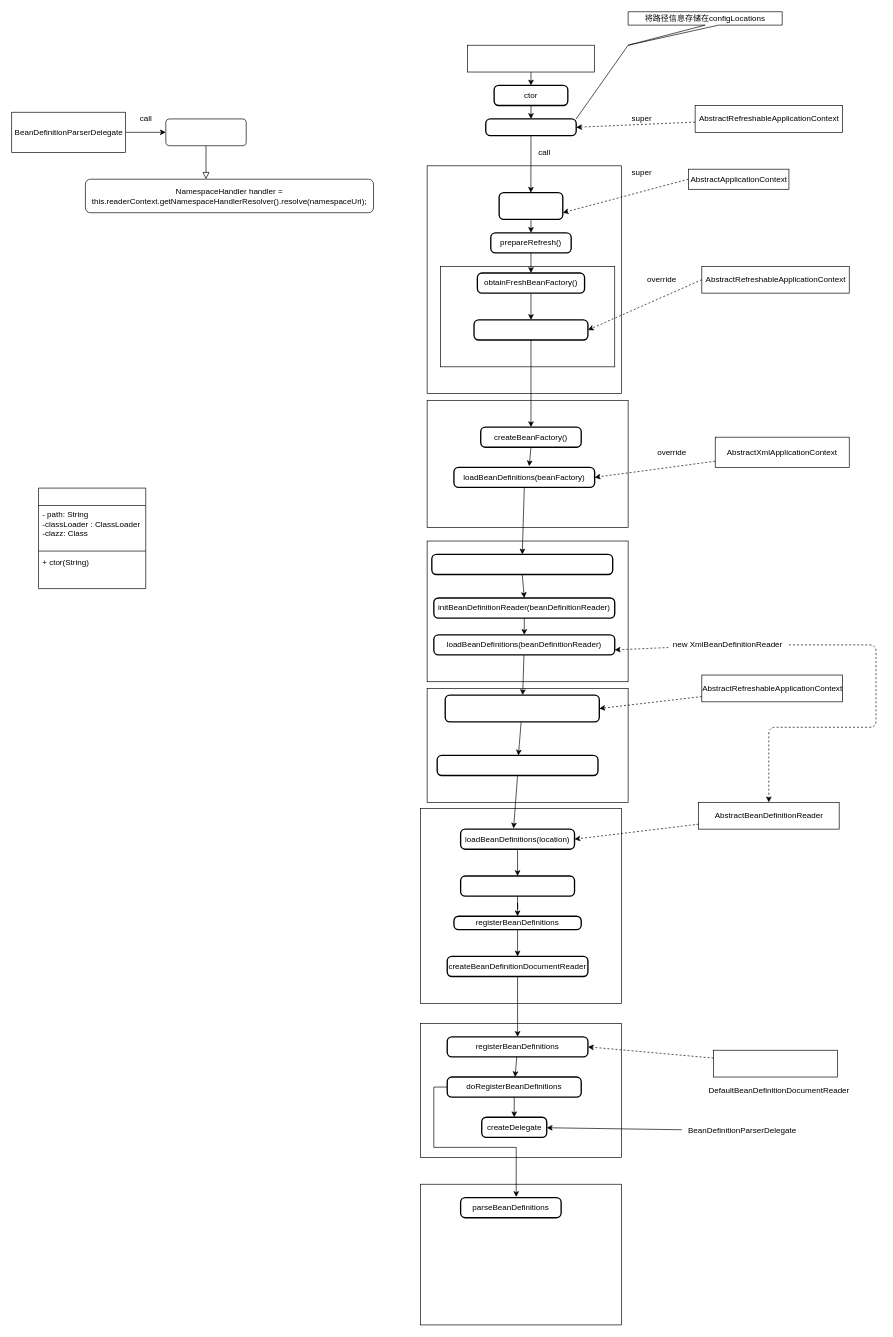
The diagram is 893 pixels wide and 1337 high, and some of its shapes have lost their labels. The box of each missing label's shape, as (x1, y1, x2, y2) in pixels:
BeanDefinitionDocumentReader: (713, 1050, 838, 1077)
ClassPathResource: (38, 487, 146, 589)
ClassPathXmlApplicationContext: (467, 45, 595, 72)
doLoadBeanDefinitions: (460, 875, 575, 896)
getConfigLocations(): (444, 694, 600, 722)
new XmlBeanDefinitionReader(beanFactory): (431, 553, 613, 575)
parseCustomElement: (165, 118, 246, 146)
reader.loadBeanDefinitions(configLocations): (436, 754, 598, 776)
refresh(): (498, 192, 563, 220)
refreshBeanFactory(): (473, 319, 588, 340)
setConfigLocations: (485, 118, 577, 136)
